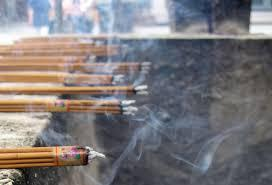controlled_fire: (83, 18, 159, 165)
